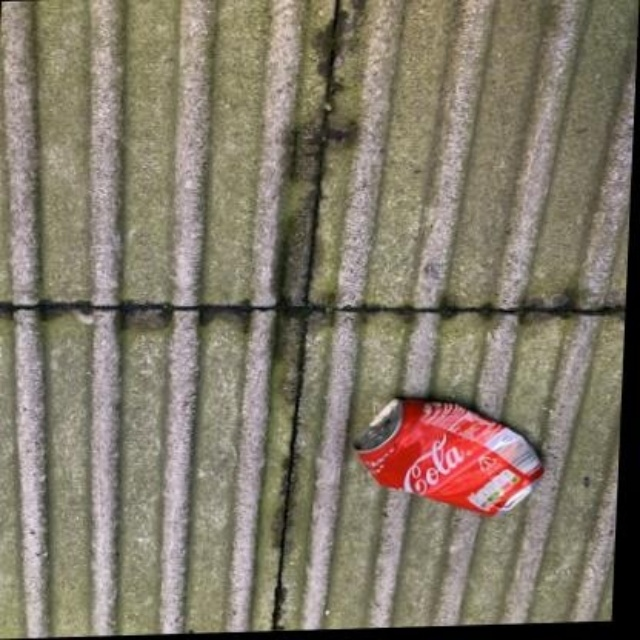trash: (354, 398, 542, 514)
